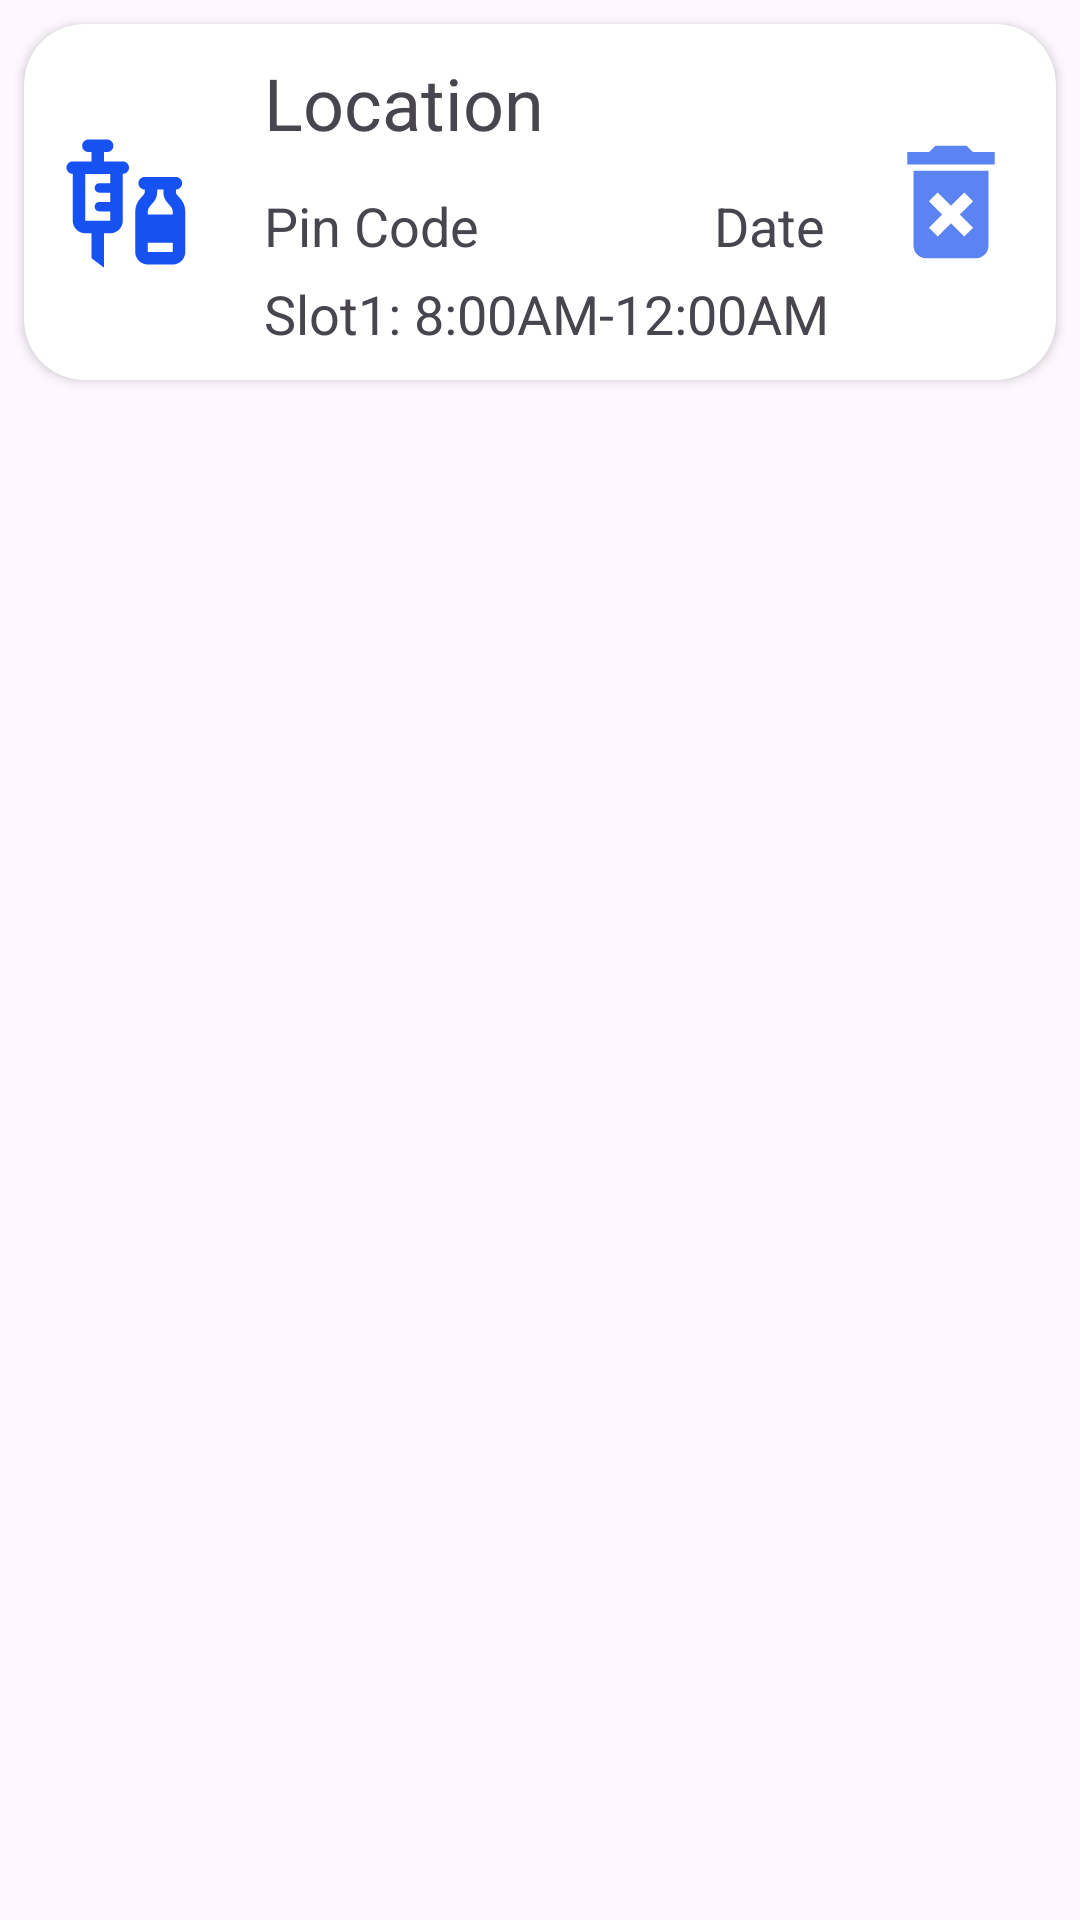

Point at icon controls on the screen. Image size 1080*1920, points as (x,y).
delete forever: (951,202)
vaccines: (126,203)
